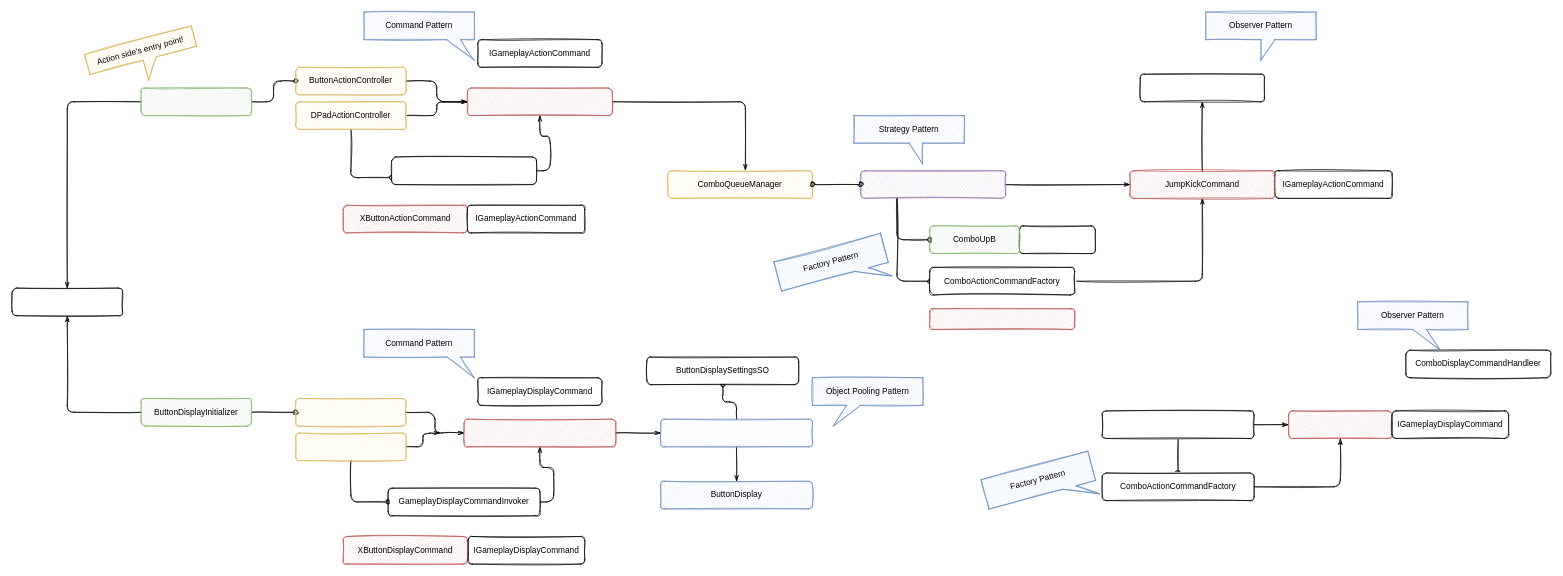
This 1563x576 diagram has some shape labels left out. The shapes that lost their labels are listed below. From the top down, each one's centre as x and y in pixels, then its label:
At point 196,101: "GameplayActionInitializer".
At point 539,101: "ButtonActionCommands".
At point 1202,87: "JumpComboEvent".
At point 463,170: "GameplayActionCommandInvoker".
At point 933,184: "ComboMatchEngine".
At point 1057,239: "IComboRule".
At point 66,301: "SideFighterControls (Input Provider)".
At point 1002,318: "ComboActionCommands".
At point 350,412: "ButtonDisplayController".
At point 539,432: "ButtonDisplayCommands".
At point 736,432: "ButtonDisplayPool".
At point 1178,424: "ComboDisplayCommandHandler".
At point 1340,424: "ComboDisplayCommand".
At point 350,446: "DPadDisplayController".
